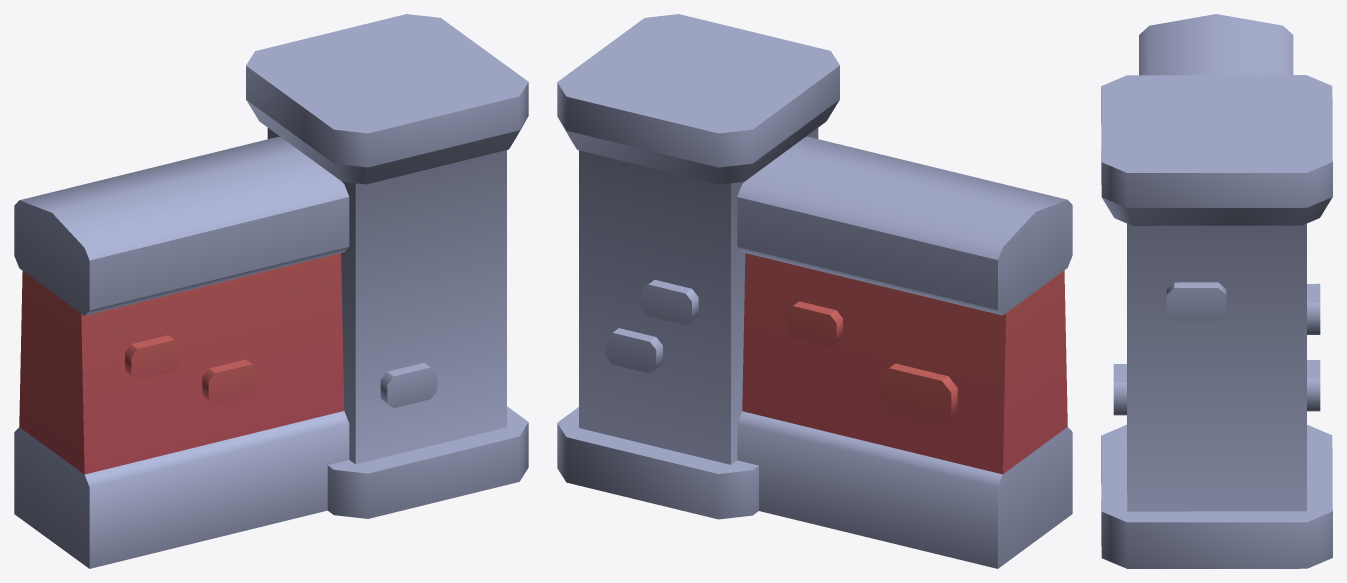
Rendered from brick-wall-end.013_lev2.glb.
3 renders of one model, left to right at view 1: azimuth 30°, elevation 25°; view 2: azimuth 150°, elevation 25°; view 3: azimuth 270°, elevation 25°, orthographic. The views are drawn at different scales.
Visible parts, largest first — view 1: brick-wall-end.013_lev2; view 2: brick-wall-end.013_lev2; view 3: brick-wall-end.013_lev2.
Part boxes in pixels (x1=…): brick-wall-end.013_lev2: x1=14, y1=14, x2=528, y2=568; brick-wall-end.013_lev2: x1=557, y1=14, x2=1072, y2=568; brick-wall-end.013_lev2: x1=1101, y1=14, x2=1332, y2=568.
Bounding box in the file's own units: 8.01 × 6.8 × 3.61.
Materials: 1 (1 with a texture image).
